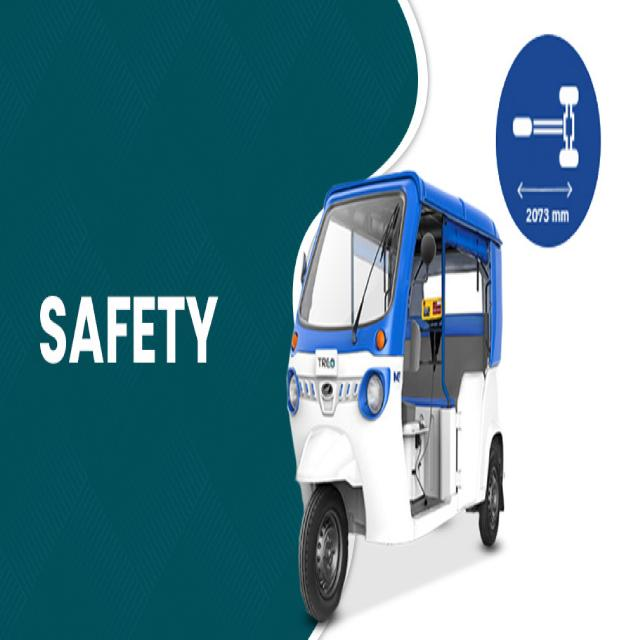autorickshaw: (288, 172, 504, 616)
